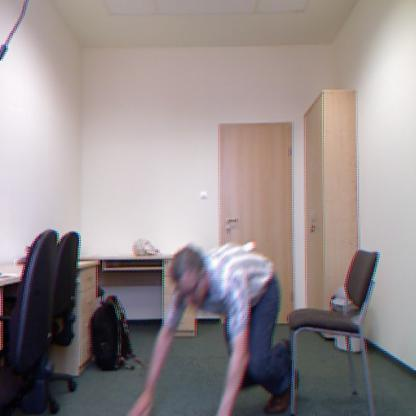fall: (127, 242, 288, 416)
